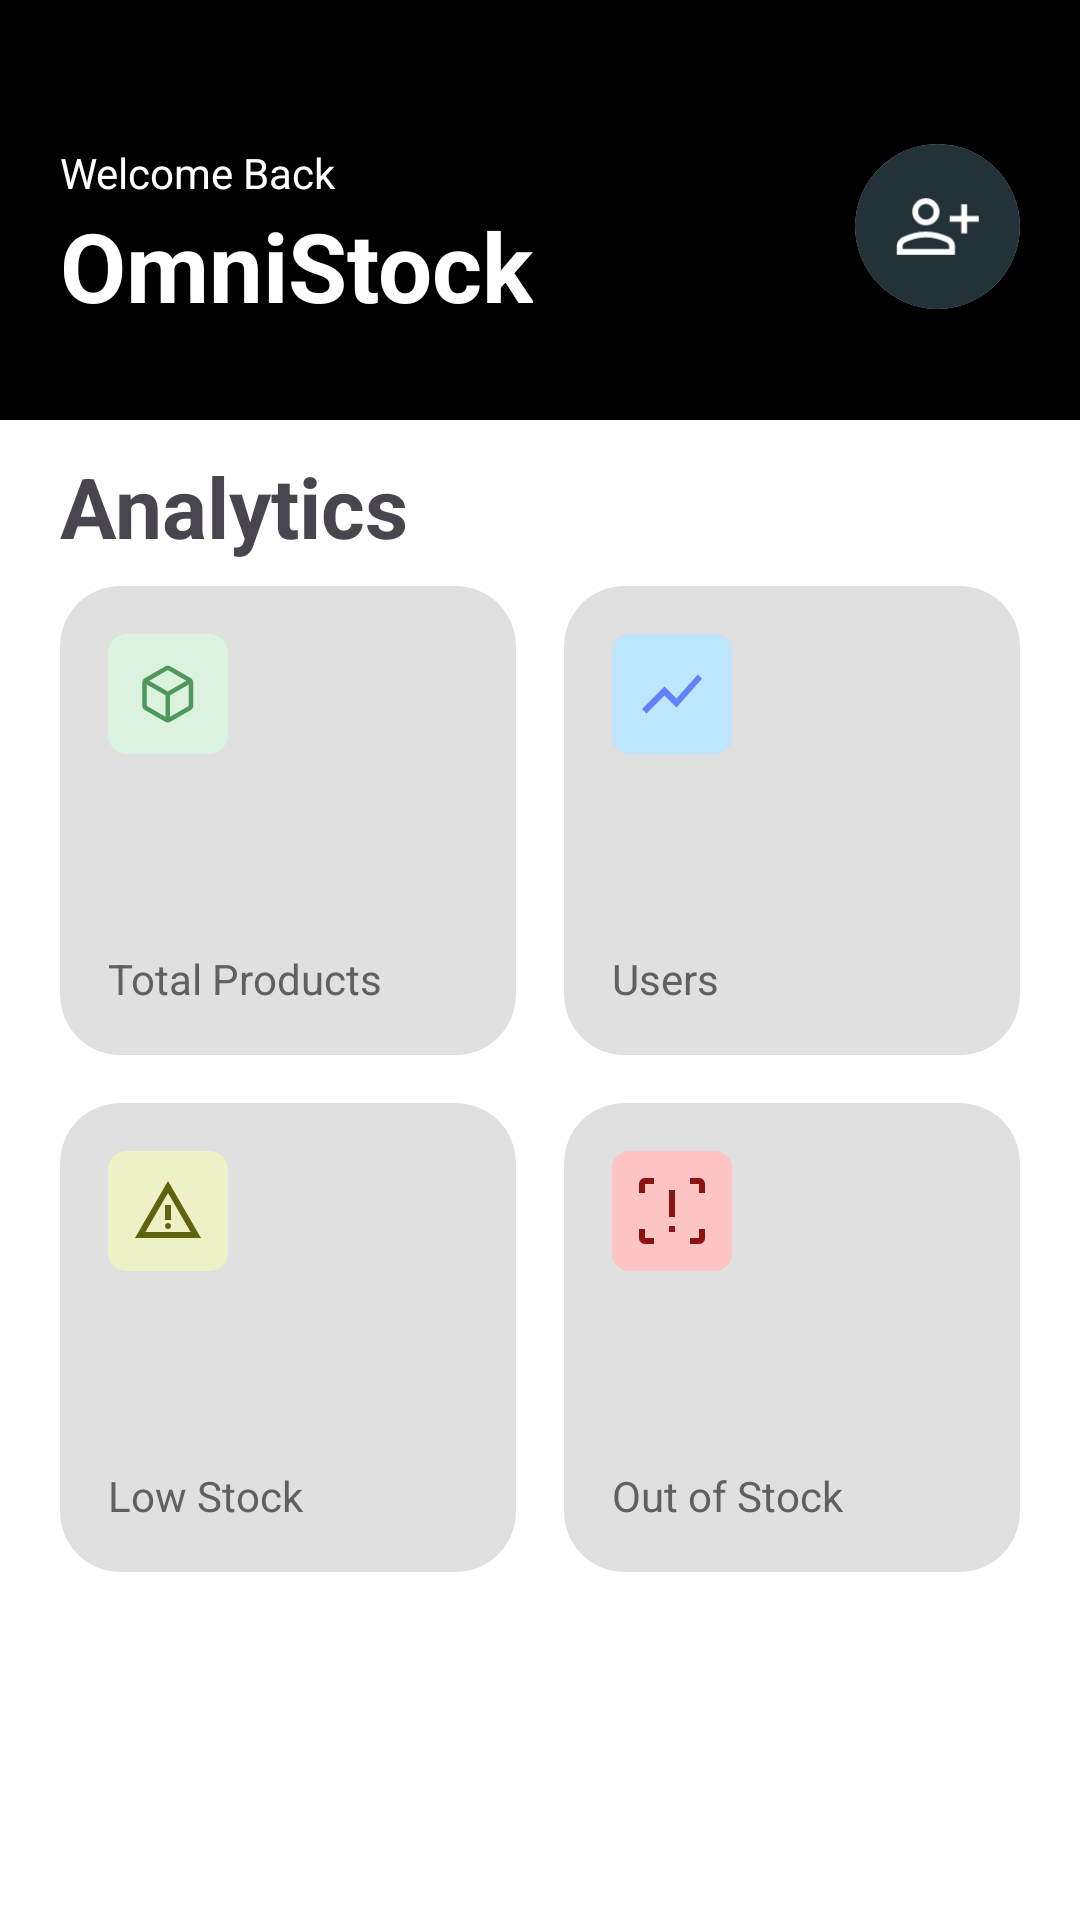

Icon bounding boxes for this 1080px x 1920px phone screenshot, format (x1, y1, x2, y2):
cube: (108, 634, 228, 754)
danger: (612, 1151, 732, 1271)
invite: (855, 144, 1020, 309)
warning: (108, 1151, 228, 1271)
